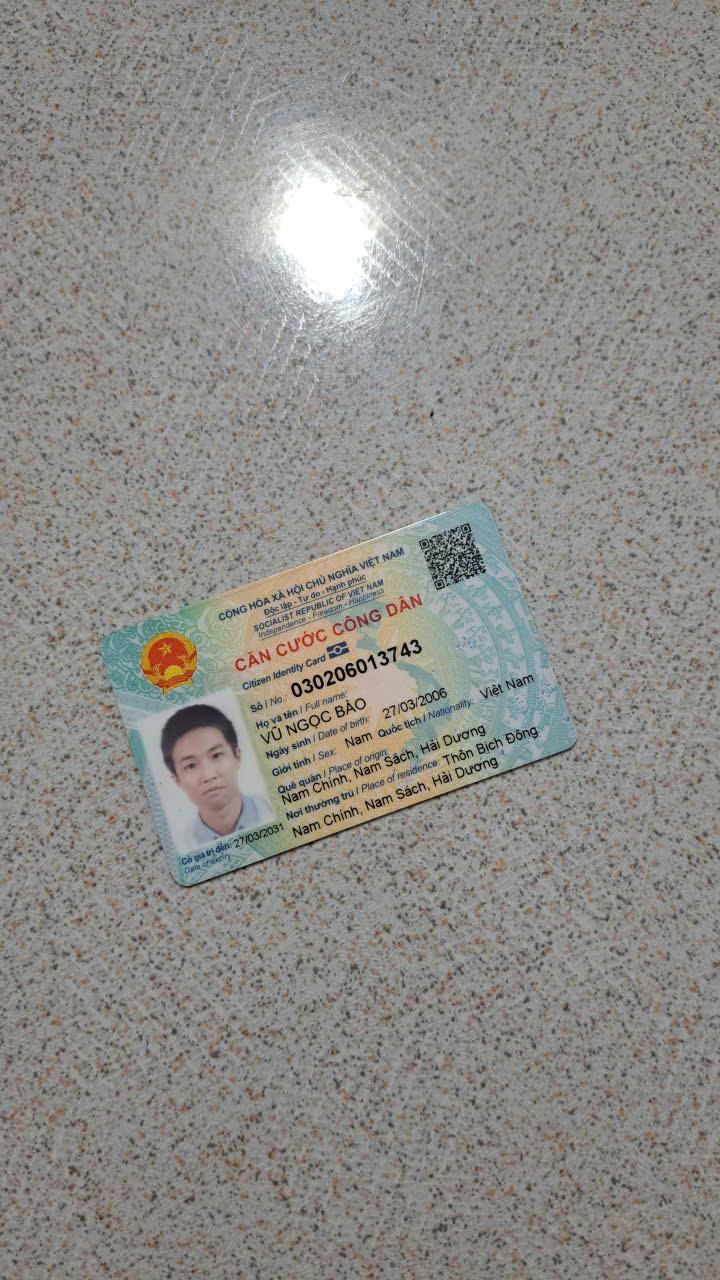cccd: (75, 488, 582, 897)
